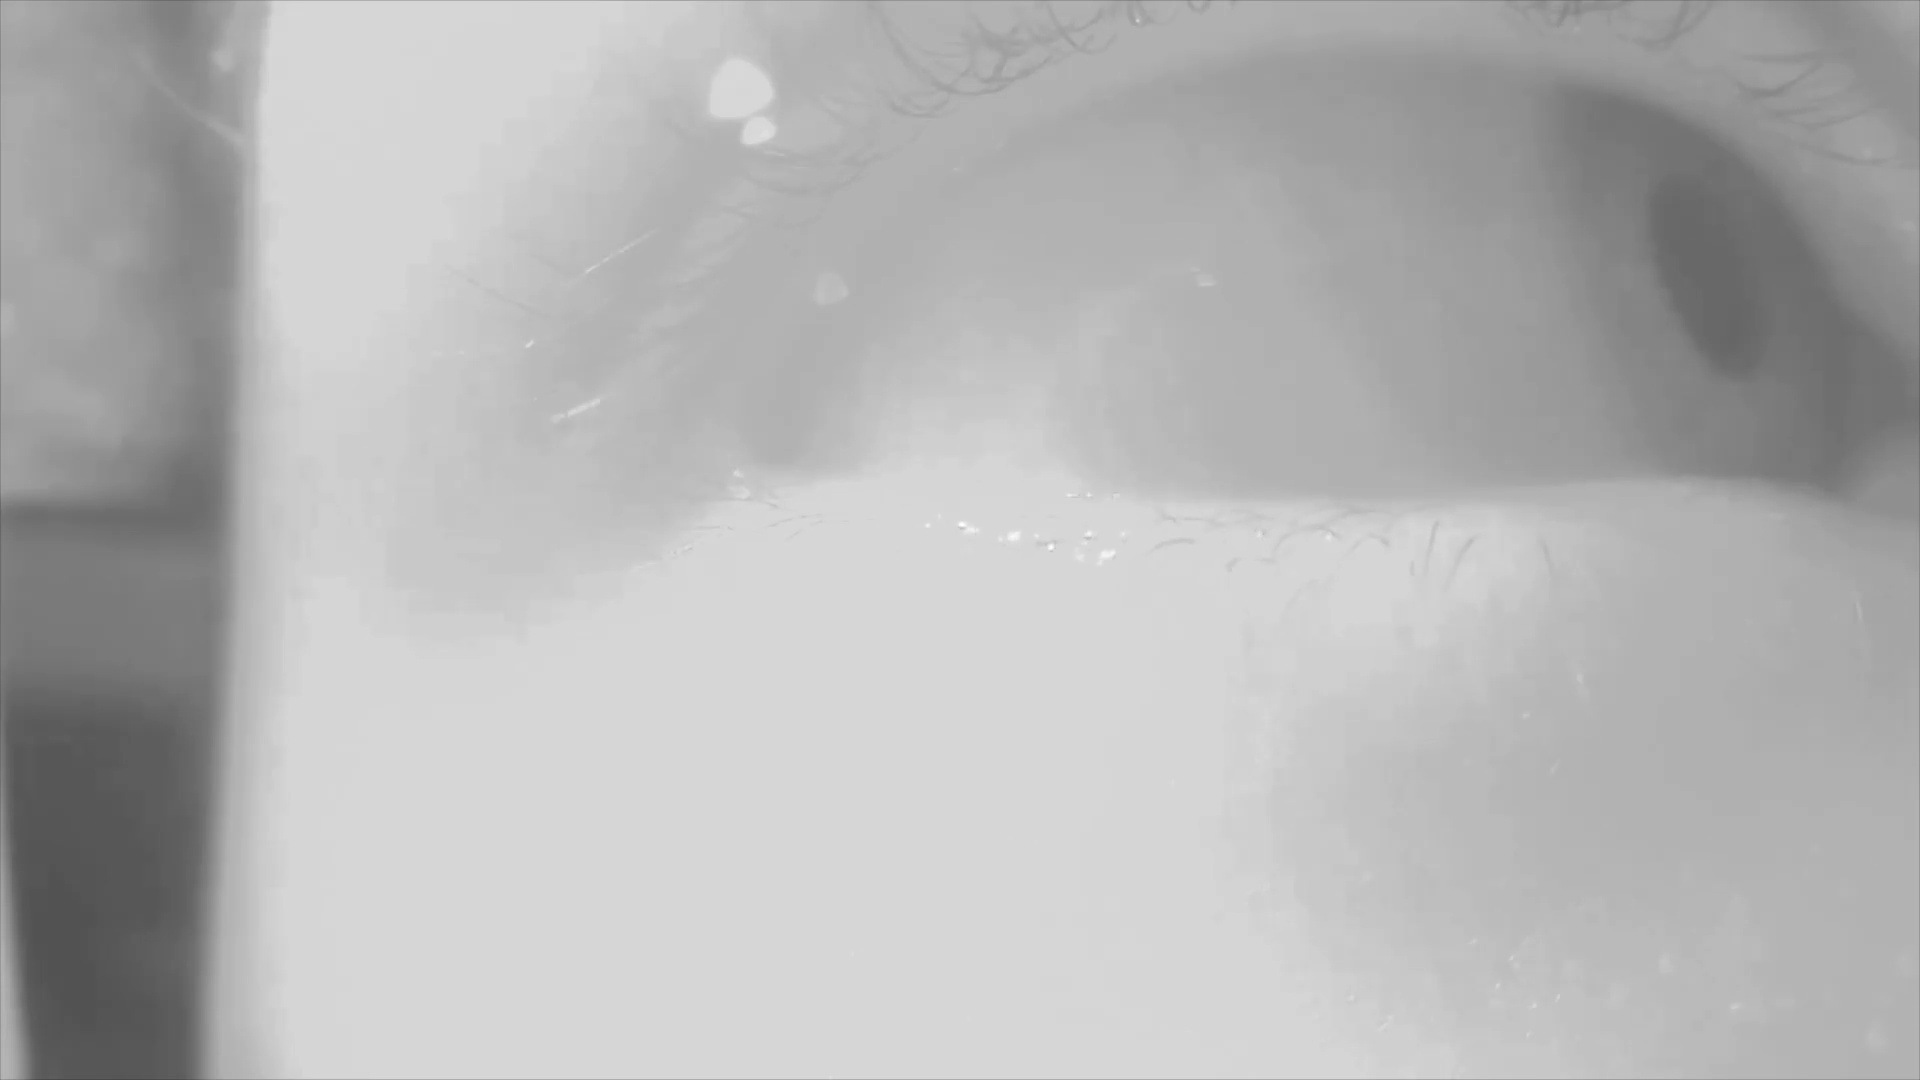pupil: (1651, 167, 1767, 383)
